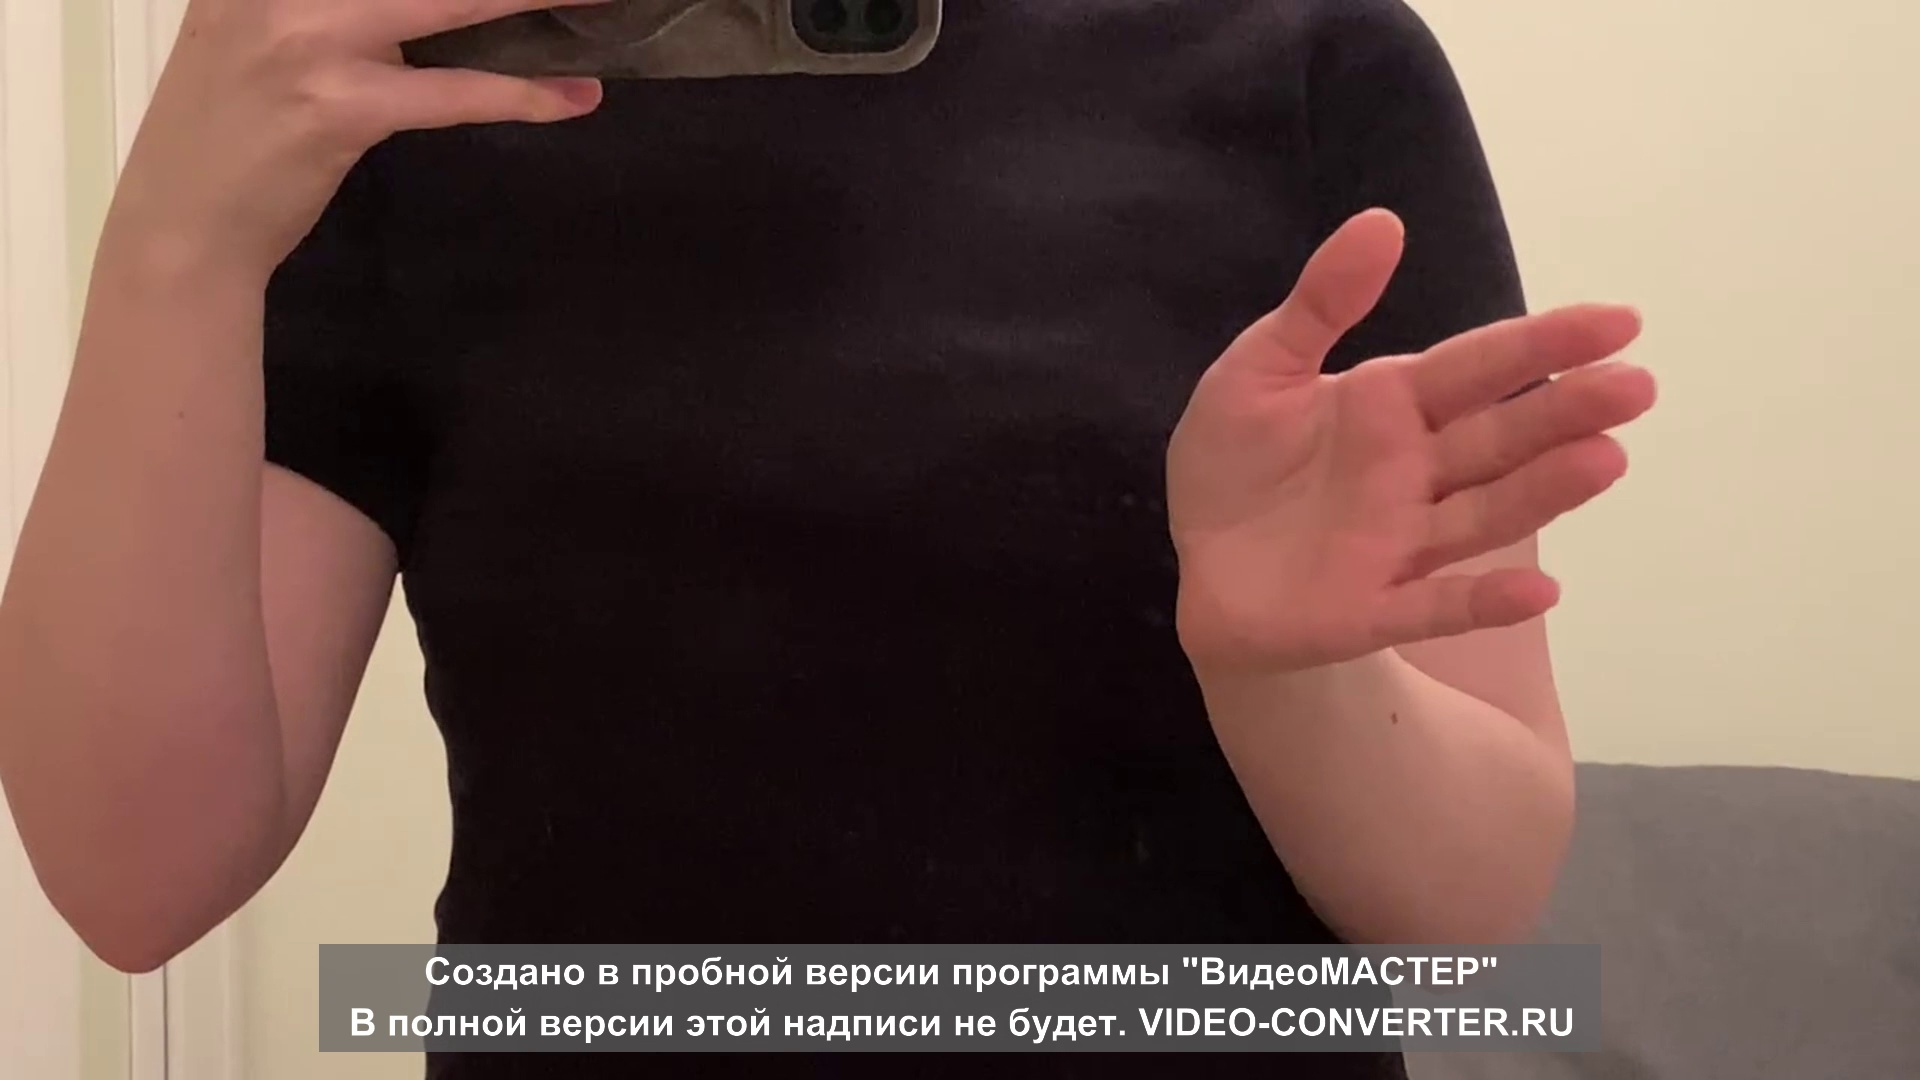Ладонь: (1163, 204, 1654, 669)
